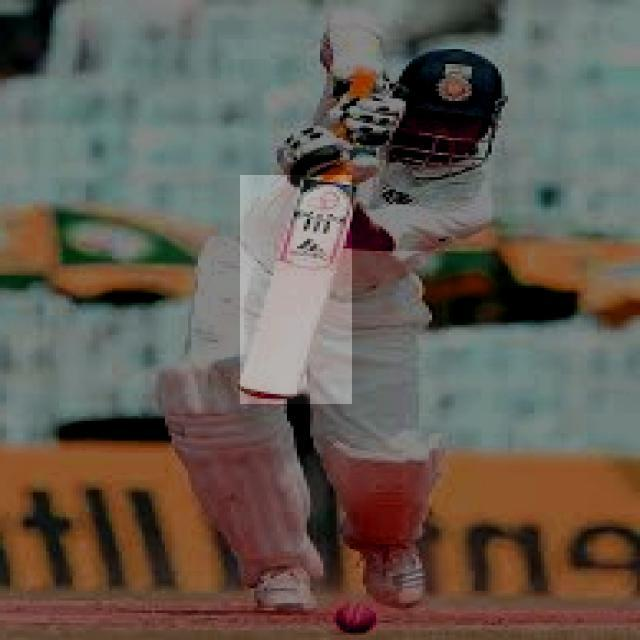bat: (240, 178, 354, 405)
toe: (234, 381, 300, 405)
